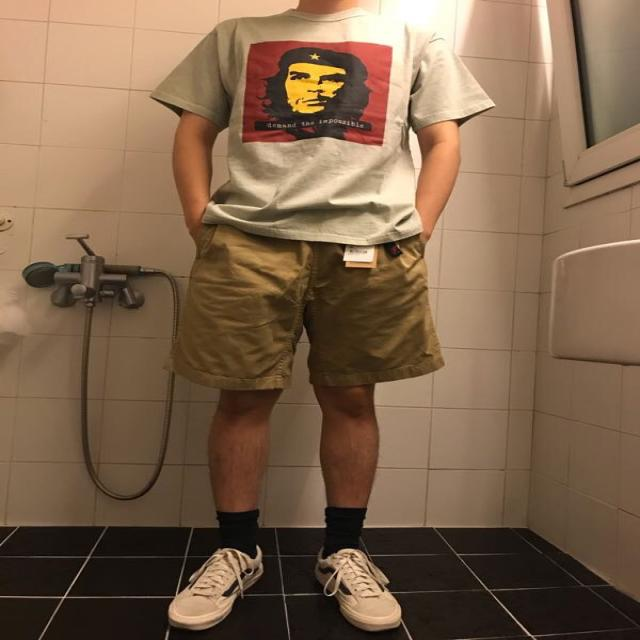shortpants: (163, 216, 445, 390)
shortsleeve: (148, 6, 497, 242)
